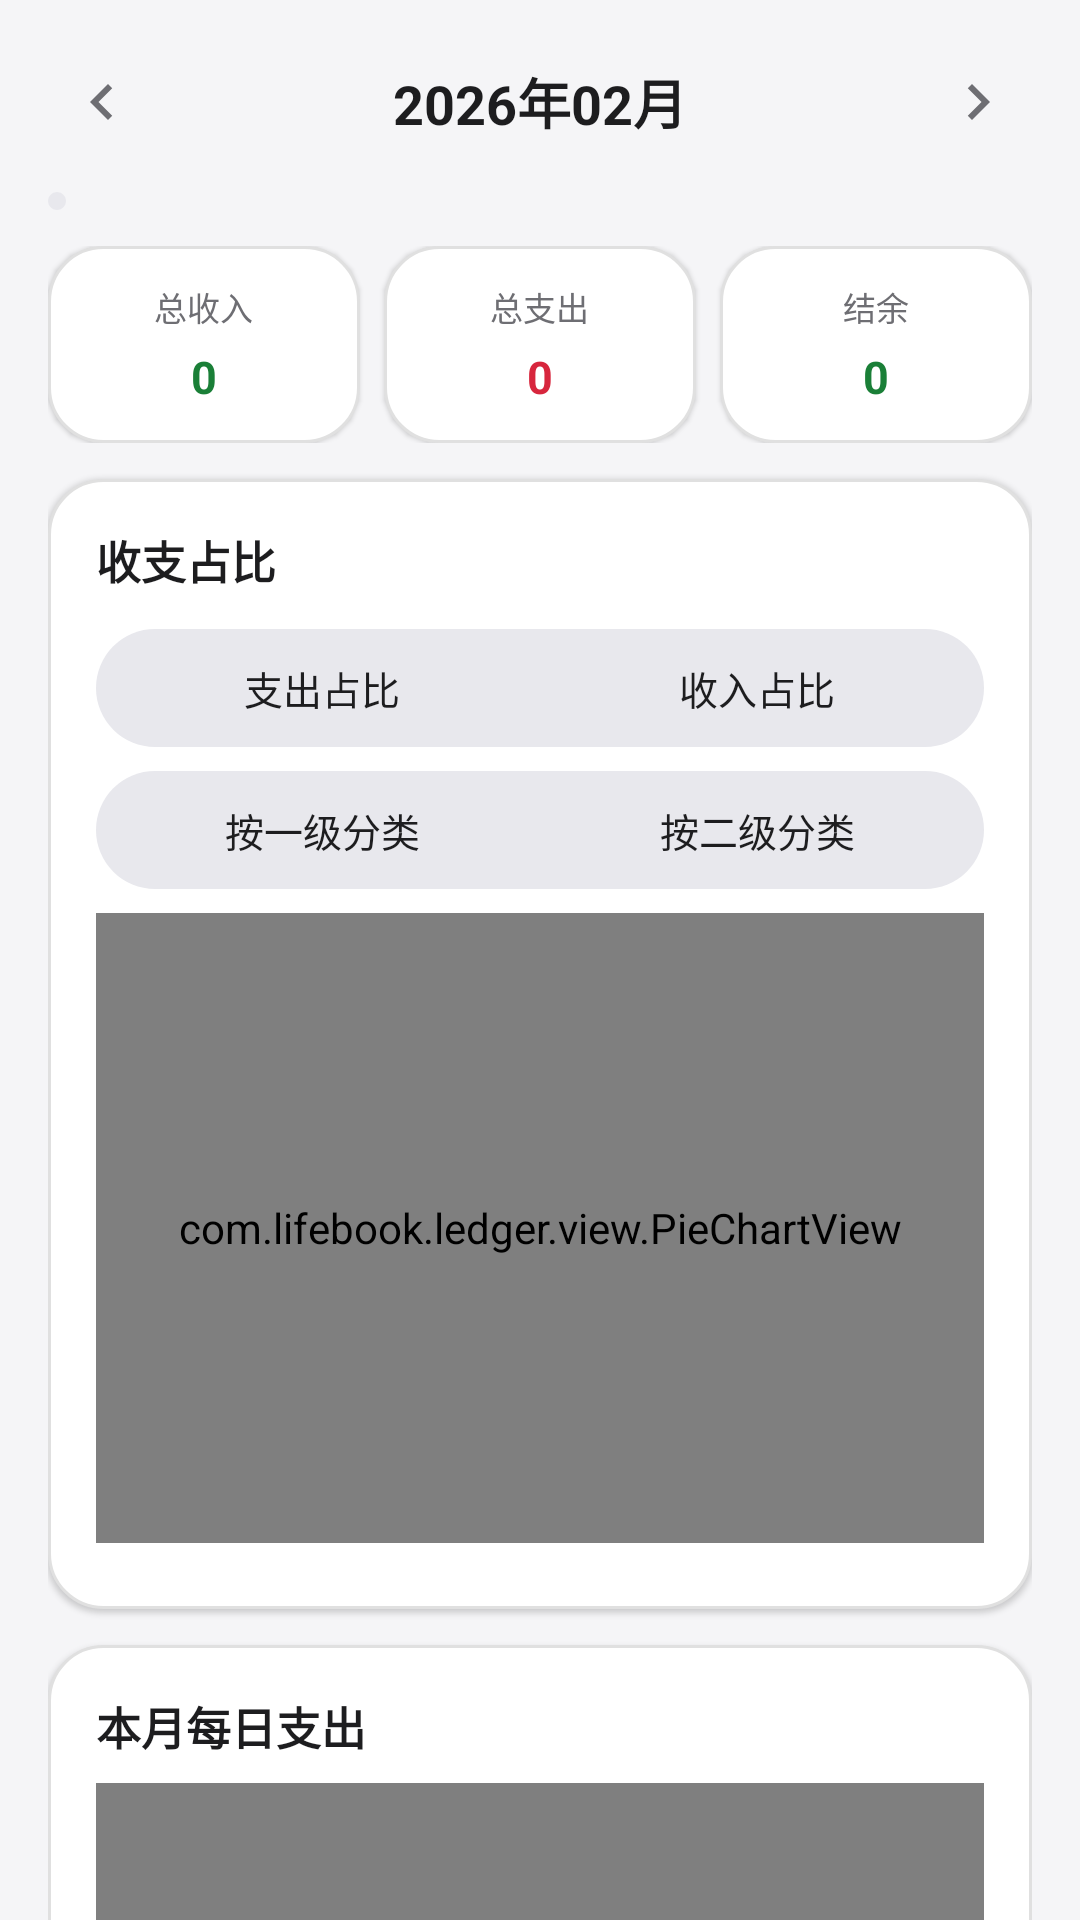

Where to tap for icons on this 1080 x 1920 app screen, as (x=x, y=y):
chev left: (x=101, y=102)
chev right: (x=979, y=102)
